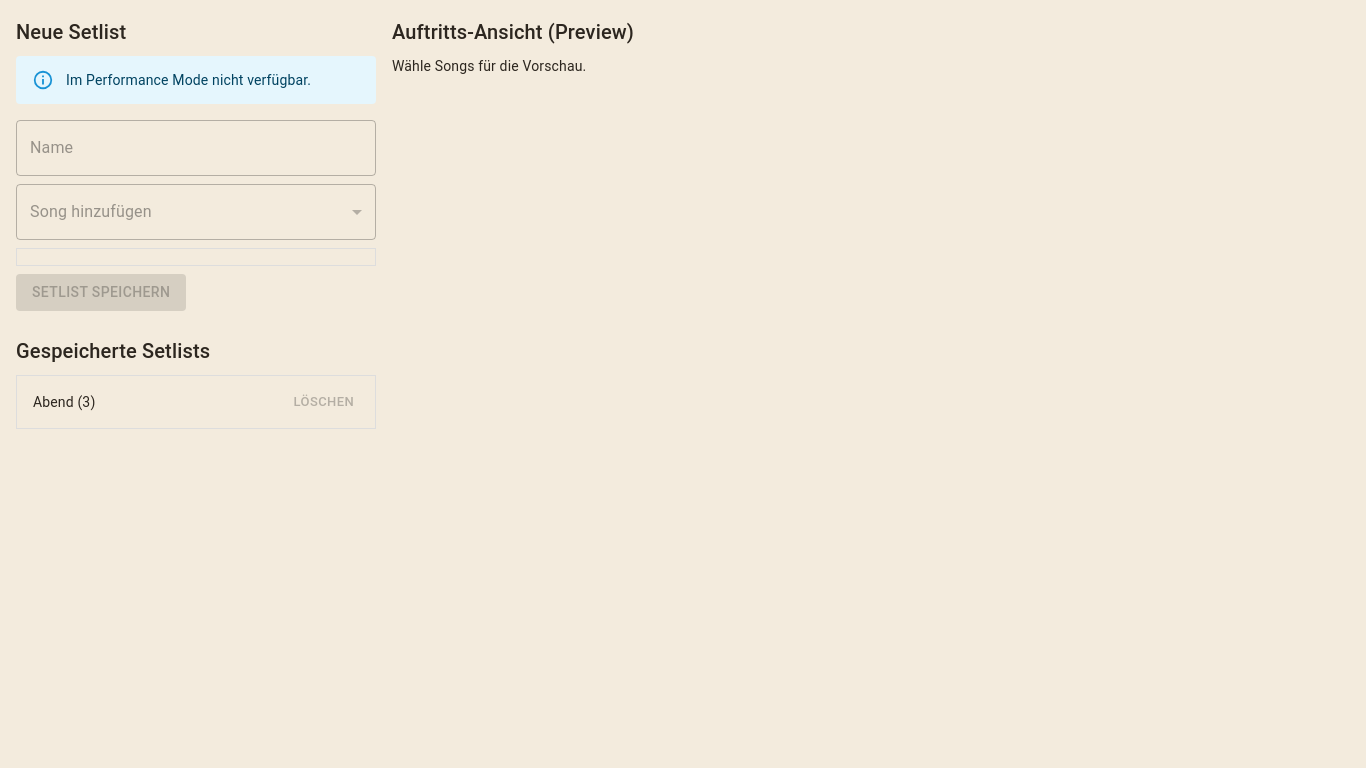
it: Performance Mode liest den Snapshot › zeigt die Setlist-Reihenfolge inklusive Duplikat
This screenshot has width=1366, height=768.
Click the button "Abend (3)" at (64, 402), box [33,394,95,410]
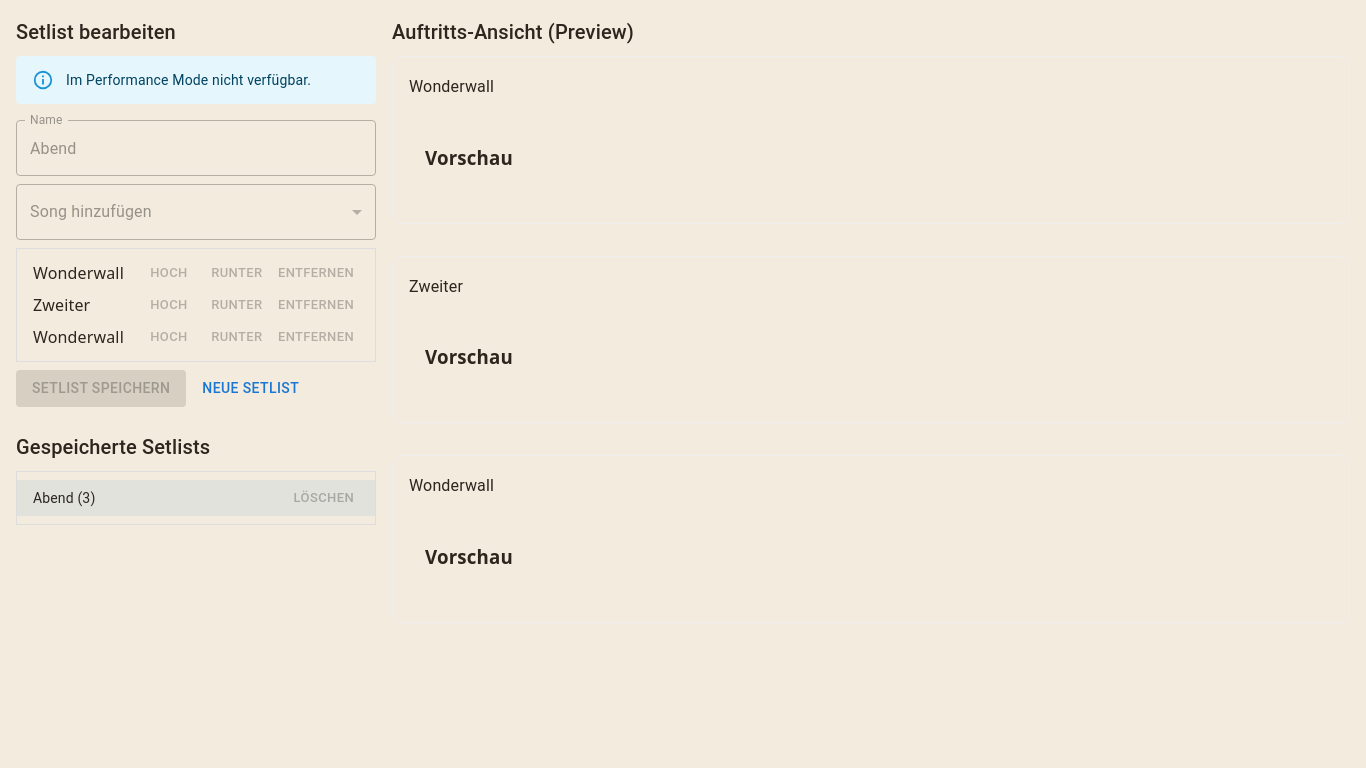
Result: the 1st list item "Wonderwall Hoch Runter Entfernen" is shown at [17,257,375,289]
Result: the list item "Zweiter Hoch Runter Entfernen" is shown at [17,289,375,321]
Result: the 2nd list item "Wonderwall Hoch Runter Entfernen" is shown at [17,321,375,353]
